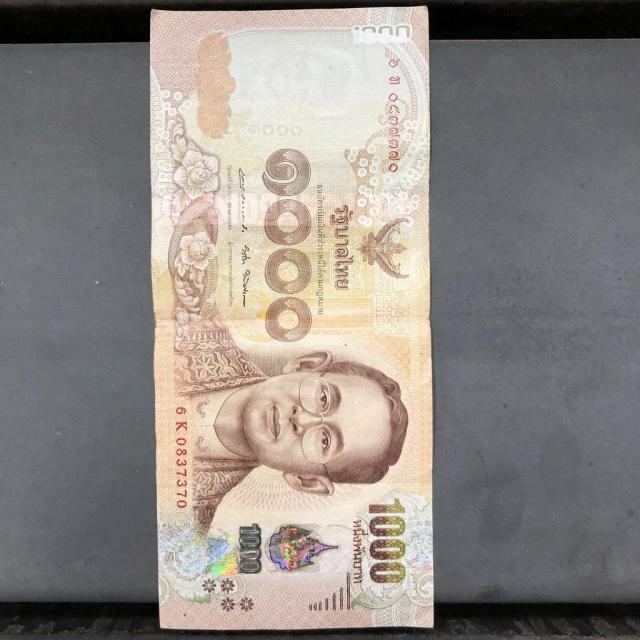THAI1000: (150, 8, 435, 632)
